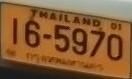letters: (24, 21, 41, 49), (54, 24, 70, 53), (72, 28, 88, 55), (107, 34, 123, 61), (90, 30, 105, 57), (12, 18, 18, 45)
province: (26, 53, 104, 72)
